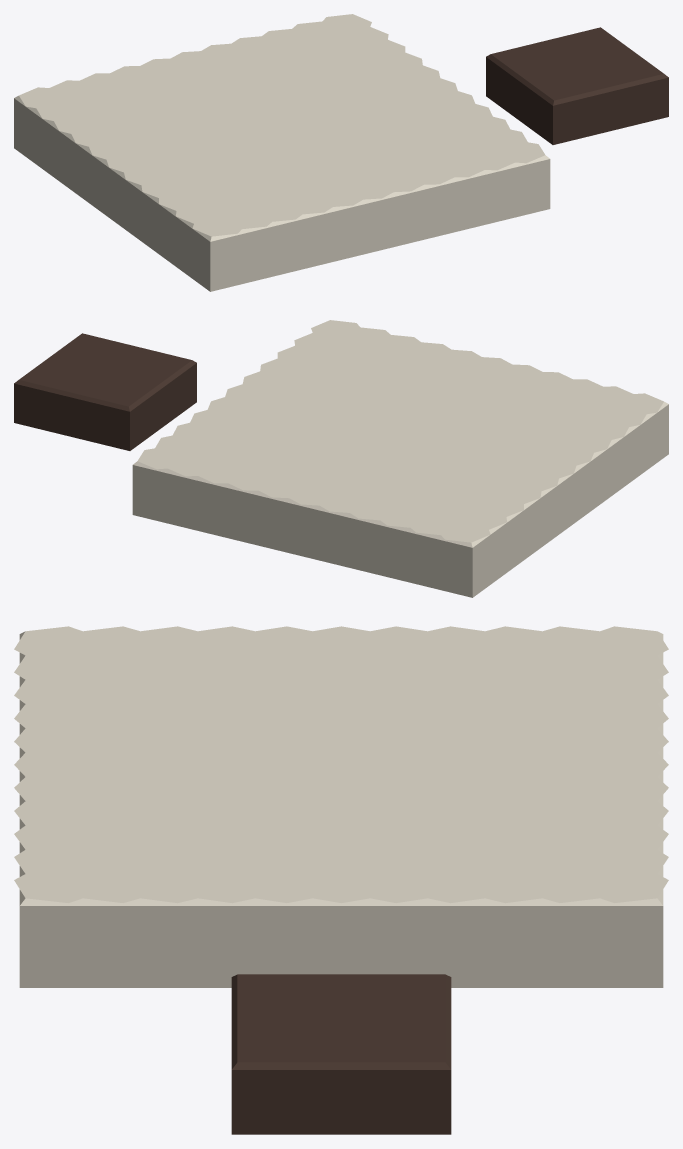
File: mahsulot.glb
The picture shows the model from 3 angles, top to bottom: view 1: azimuth 30°, elevation 25°; view 2: azimuth 150°, elevation 25°; view 3: azimuth 270°, elevation 25°; orthographic projection. The views are drawn at different scales.
Visible parts, largest first — view 1: mahsulot_A, mahsulot_B; view 2: mahsulot_A, mahsulot_B; view 3: mahsulot_A, mahsulot_B.
Part boxes in pixels (x1=…): mahsulot_A: x1=14, y1=14, x2=550, y2=291; mahsulot_B: x1=486, y1=27, x2=668, y2=144; mahsulot_A: x1=132, y1=320, x2=668, y2=597; mahsulot_B: x1=14, y1=333, x2=196, y2=450; mahsulot_A: x1=14, y1=626, x2=668, y2=987; mahsulot_B: x1=231, y1=974, x2=451, y2=1134.
Size of the model in its own units: 0.2585 by 0.025 by 0.17.
